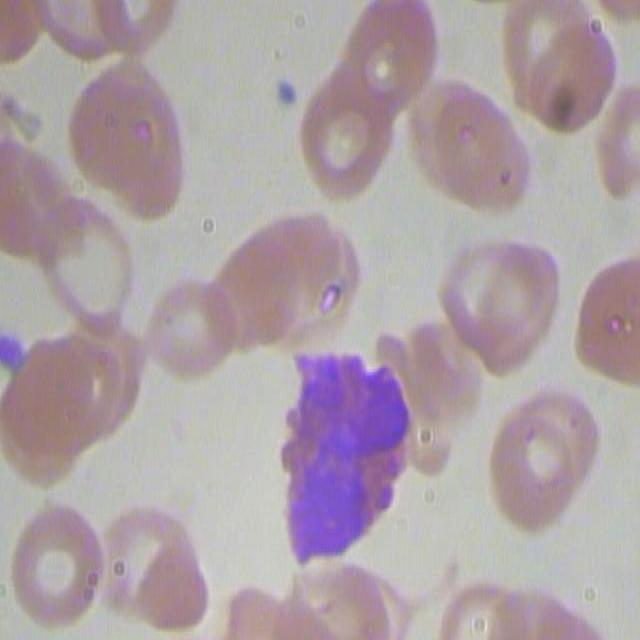RBC: (56, 61, 194, 229), (214, 203, 364, 354), (435, 222, 564, 380), (412, 82, 538, 220), (486, 380, 598, 531), (90, 498, 212, 635), (35, 199, 146, 349), (502, 0, 622, 138), (293, 68, 392, 205), (8, 496, 106, 630), (333, 0, 440, 117), (141, 270, 238, 384), (573, 255, 640, 389), (31, 0, 154, 72), (592, 76, 640, 198), (0, 0, 44, 72)
WBC: (290, 322, 408, 566)
platelets: (0, 324, 26, 384), (271, 75, 299, 114)
